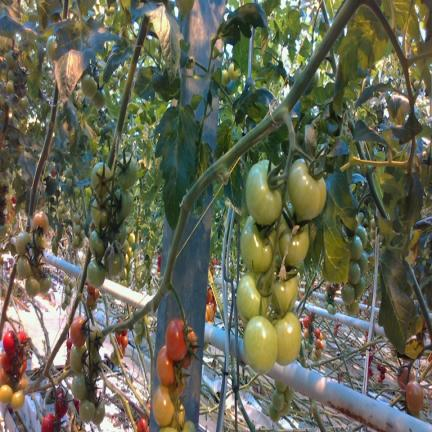6kp_peduncle: (260, 81, 303, 162), (155, 263, 186, 318), (357, 177, 381, 214), (39, 357, 57, 398), (72, 277, 89, 319), (0, 298, 17, 337), (110, 117, 124, 163)
MainStem: (102, 0, 362, 337), (25, 247, 92, 393), (107, 16, 150, 168), (26, 77, 58, 230), (0, 254, 18, 340)
tomato: (246, 160, 282, 225), (288, 159, 326, 220), (243, 316, 277, 373), (240, 215, 272, 274), (279, 206, 309, 266), (274, 312, 301, 365), (236, 274, 261, 319), (271, 277, 298, 314), (153, 384, 174, 426), (166, 318, 187, 360), (104, 240, 124, 278), (91, 162, 112, 198), (156, 346, 174, 386), (182, 326, 197, 368), (118, 157, 137, 189), (115, 189, 132, 223), (406, 381, 423, 414), (87, 259, 106, 287), (91, 199, 108, 228), (87, 326, 104, 353), (70, 316, 85, 346), (70, 345, 86, 372), (89, 230, 104, 258), (108, 222, 126, 245), (90, 347, 102, 381), (397, 366, 414, 390), (72, 371, 86, 400), (79, 398, 95, 422), (81, 74, 97, 98), (349, 235, 363, 261), (15, 232, 31, 254), (174, 360, 184, 395), (57, 387, 68, 418), (33, 211, 49, 232), (17, 256, 32, 278), (341, 282, 355, 305), (25, 276, 40, 297), (15, 350, 27, 376), (92, 401, 105, 424), (3, 330, 15, 354), (11, 390, 25, 410), (348, 261, 360, 284), (46, 35, 57, 59), (356, 225, 367, 248), (0, 384, 13, 403), (92, 90, 105, 109), (354, 276, 365, 298), (31, 255, 43, 275), (272, 390, 284, 410), (345, 298, 359, 315), (1, 350, 12, 371), (358, 251, 368, 274), (34, 230, 46, 249), (41, 414, 54, 431), (269, 402, 280, 422), (228, 62, 240, 80), (39, 275, 51, 292), (6, 50, 17, 68), (0, 368, 10, 386), (178, 404, 185, 428), (274, 380, 286, 393), (280, 401, 291, 415), (284, 386, 294, 401), (221, 70, 230, 86), (183, 420, 196, 431), (206, 303, 214, 320), (137, 418, 147, 431), (19, 375, 28, 389), (134, 322, 143, 335), (6, 80, 14, 94), (17, 331, 27, 342), (19, 97, 29, 108), (86, 294, 95, 306), (121, 335, 128, 349), (110, 351, 117, 364), (159, 426, 177, 431), (65, 167, 73, 178), (135, 334, 142, 346), (357, 212, 364, 224), (207, 288, 213, 302), (87, 284, 95, 294), (127, 246, 133, 258), (73, 235, 80, 245), (126, 271, 131, 285), (303, 316, 309, 327), (74, 225, 81, 234), (315, 349, 322, 358), (116, 334, 122, 344), (79, 230, 85, 240), (74, 214, 80, 224), (91, 300, 97, 310), (8, 70, 14, 80), (94, 288, 99, 299), (315, 338, 320, 349), (126, 262, 132, 271), (63, 276, 69, 285), (363, 218, 369, 227), (327, 304, 333, 313), (370, 218, 375, 228), (304, 328, 309, 338), (315, 328, 320, 338), (78, 240, 84, 248), (66, 178, 72, 186), (61, 302, 67, 310), (109, 6, 115, 14), (65, 295, 70, 304), (65, 285, 70, 294), (370, 229, 375, 238), (370, 239, 375, 248), (318, 332, 323, 340), (319, 339, 323, 349), (125, 254, 128, 266), (121, 279, 126, 286), (58, 206, 62, 214), (70, 281, 74, 289), (61, 214, 67, 219), (59, 201, 63, 205)
